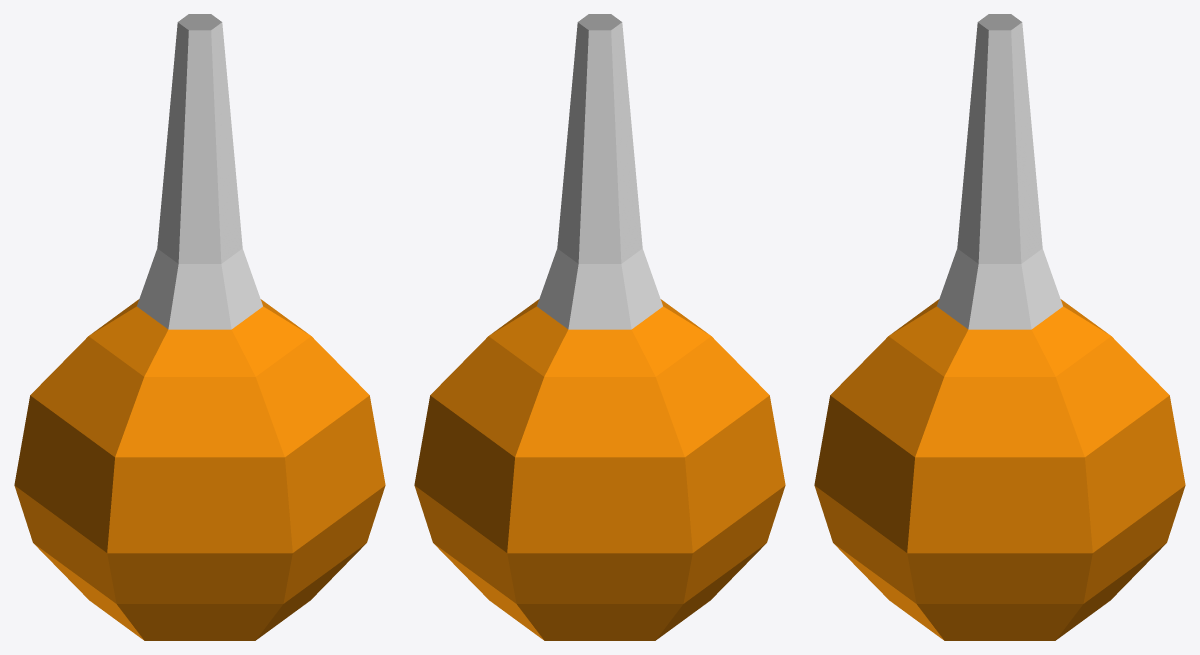
The model's file is Clyster Orange.fbx.
3 renders of one model, left to right at view 1: azimuth 30°, elevation 25°; view 2: azimuth 150°, elevation 25°; view 3: azimuth 270°, elevation 25°, orthographic.
Parts seen in each view (by area): view 1: Clyster Orange; view 2: Clyster Orange; view 3: Clyster Orange.
Boxes of the visible parts, box(x1,y1,x2,y2) form: Clyster Orange: box(14, 14, 385, 640); Clyster Orange: box(414, 14, 785, 640); Clyster Orange: box(814, 14, 1185, 640).
Bounding box in the file's own units: 20.89 × 41.46 × 24.12.
